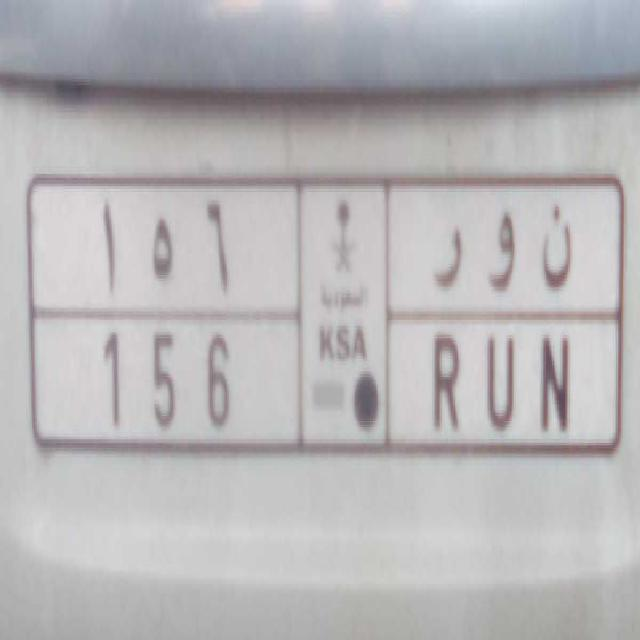license_plate: (37, 300, 599, 456)
